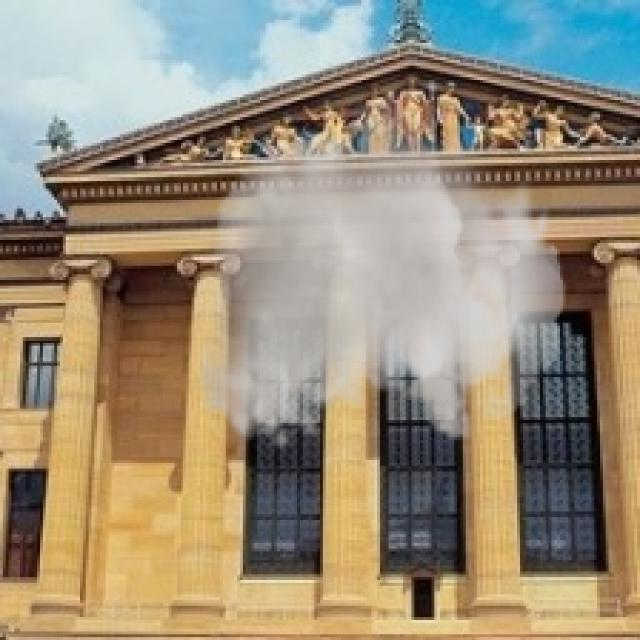smoke: (197, 80, 566, 454)
